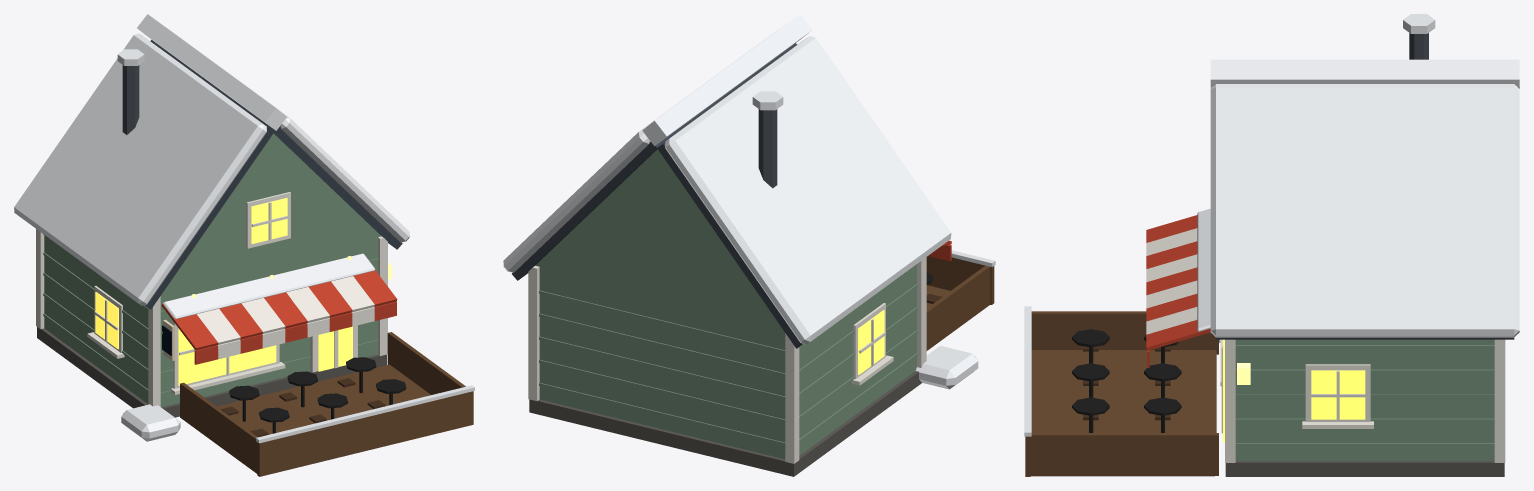
The model's file is cafe.glb.
3 views of the same model, side by side, from view 1: azimuth 30°, elevation 25°; view 2: azimuth 150°, elevation 25°; view 3: azimuth 270°, elevation 25° (orthographic). The views are drawn at different scales.
Parts seen in each view (by area): view 1: cafe; view 2: cafe; view 3: cafe.
Boxes of the visible parts, x1,y1,x2,y2 form: cafe: (14, 14, 474, 476); cafe: (503, 14, 995, 476); cafe: (1024, 14, 1519, 476).
Bounding box in the file's own units: 8.68 × 8.72 × 11.02.
